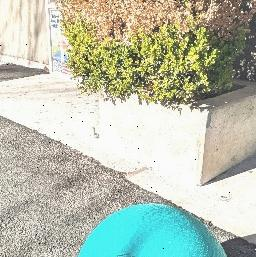algae: (78, 202, 232, 257)
